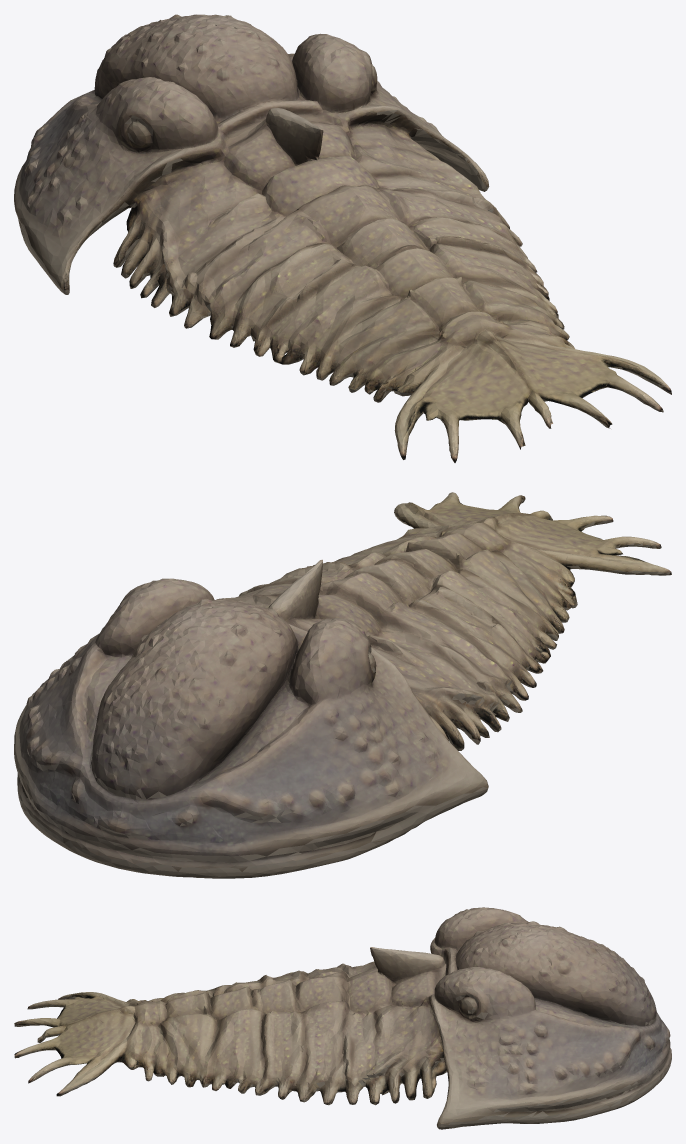
3 views of the same model, one above another, from view 1: azimuth 30°, elevation 25°; view 2: azimuth 150°, elevation 25°; view 3: azimuth 270°, elevation 25° (orthographic). The views are drawn at different scales.
Parts seen in each view (by area): view 1: geometry_0; view 2: geometry_0; view 3: geometry_0.
Part boxes in pixels (<box>): geometry_0: <box>14,14,671,462</box>; geometry_0: <box>14,492,671,878</box>; geometry_0: <box>14,907,671,1129</box>.
Size of the model in its own units: 0.5452 by 0.2255 by 0.9986.
Materials: 2 (2 with a texture image).
